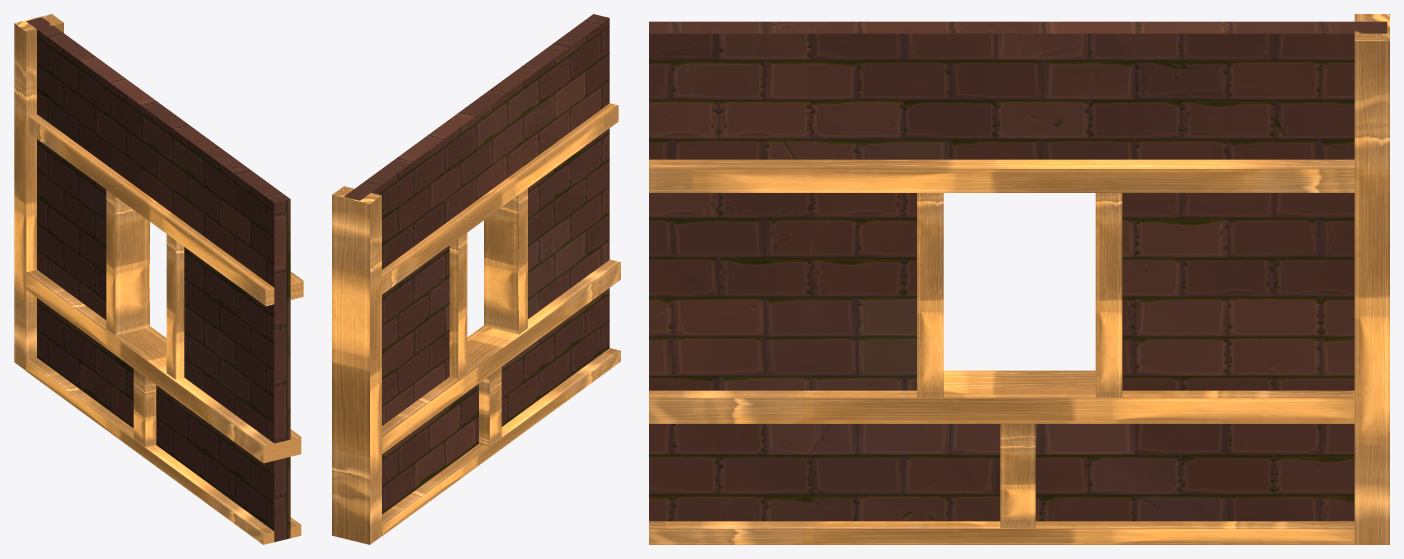
File: SM_Window_Wall_03.fbx
The picture shows the model from 3 angles, left to right: view 1: azimuth 30°, elevation 25°; view 2: azimuth 150°, elevation 25°; view 3: azimuth 270°, elevation 25°; orthographic projection. The views are drawn at different scales.
Visible parts, largest first — view 1: SM_Window_Wall_03; view 2: SM_Window_Wall_03; view 3: SM_Window_Wall_03.
Boxes of the visible parts, x1=… form: SM_Window_Wall_03: x1=14, y1=14, x2=303, y2=544; SM_Window_Wall_03: x1=332, y1=14, x2=620, y2=544; SM_Window_Wall_03: x1=649, y1=14, x2=1389, y2=544.
Size of the model in its own units: 37.36 by 300 by 400.
